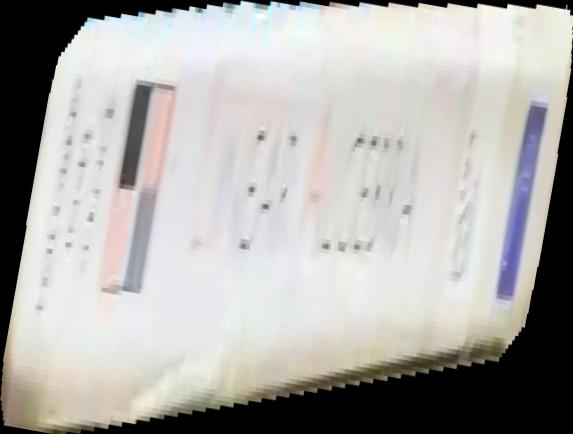flat: (1, 1, 573, 434)
